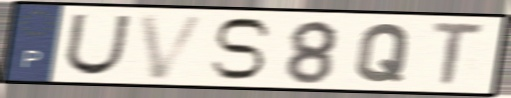8: (282, 17, 341, 85)
Q: (352, 21, 415, 84)
S: (206, 16, 275, 82)
T: (429, 20, 488, 89)
U: (61, 12, 134, 78)
V: (136, 13, 212, 82)
